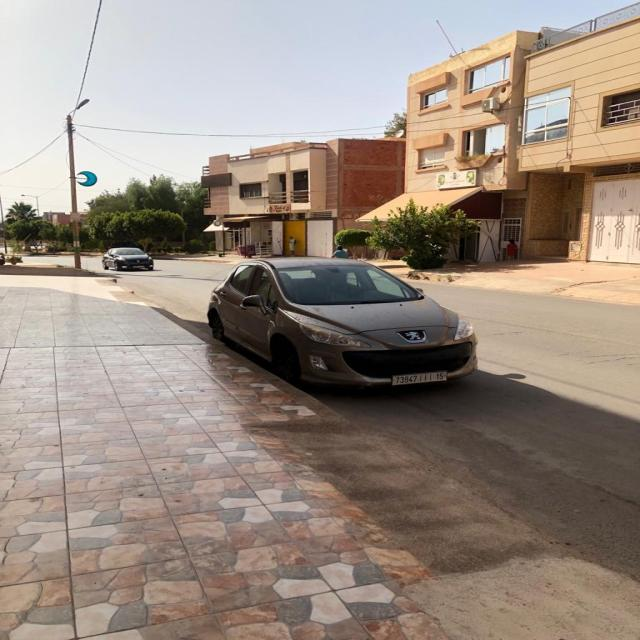Car: (207, 257, 478, 387), (100, 248, 152, 271)
Electric pole: (65, 98, 87, 268)
